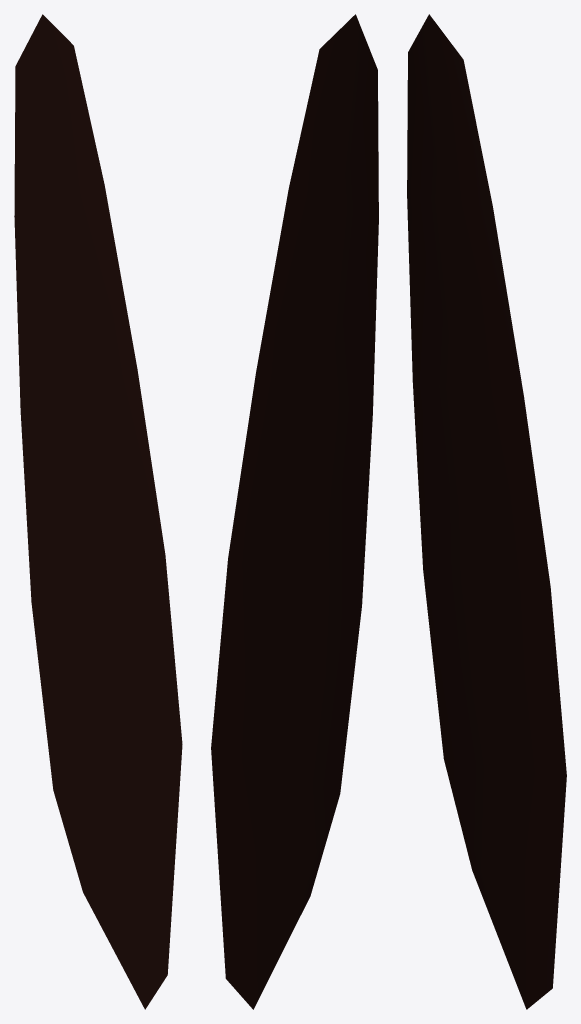
The model's file is pheasant_feather_flight_primary_012.obj.
3 renders of one model, left to right at view 1: azimuth 30°, elevation 25°; view 2: azimuth 150°, elevation 25°; view 3: azimuth 330°, elevation 25°, orthographic. The views are drawn at different scales.
Parts seen in each view (by area): view 1: feather_flight_primary_012; view 2: feather_flight_primary_012; view 3: feather_flight_primary_012.
Part boxes in pixels (box(x1,y1,x2,y2)): feather_flight_primary_012: box(14, 14, 182, 1009); feather_flight_primary_012: box(211, 14, 378, 1009); feather_flight_primary_012: box(407, 14, 566, 1009).
Bounding box in the file's own units: 0.0212 × 0.1229 × 0.000566.
